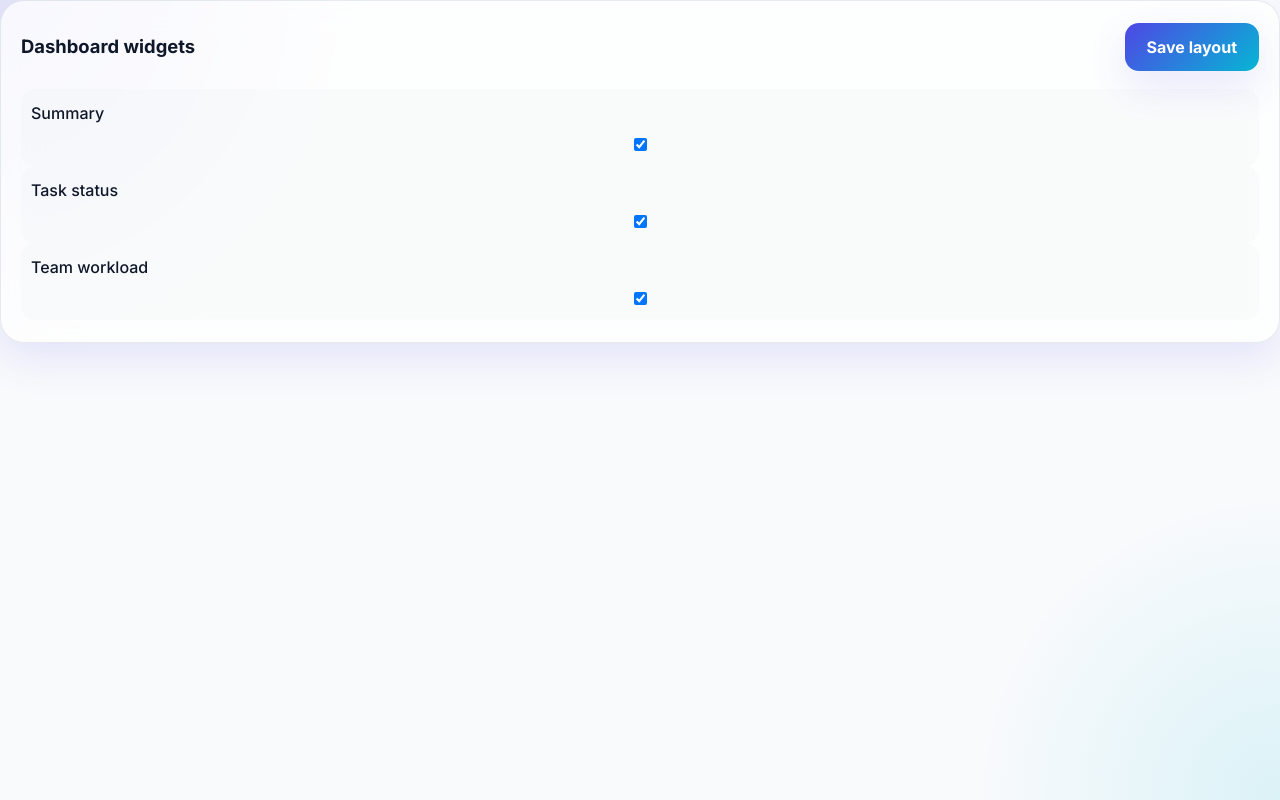
Test: WidgetLayoutEditor › toggles visibility and saves the layout
Step 1. Click the checkbox named "Show Summary" → (640,144), box [35,138,1246,151]
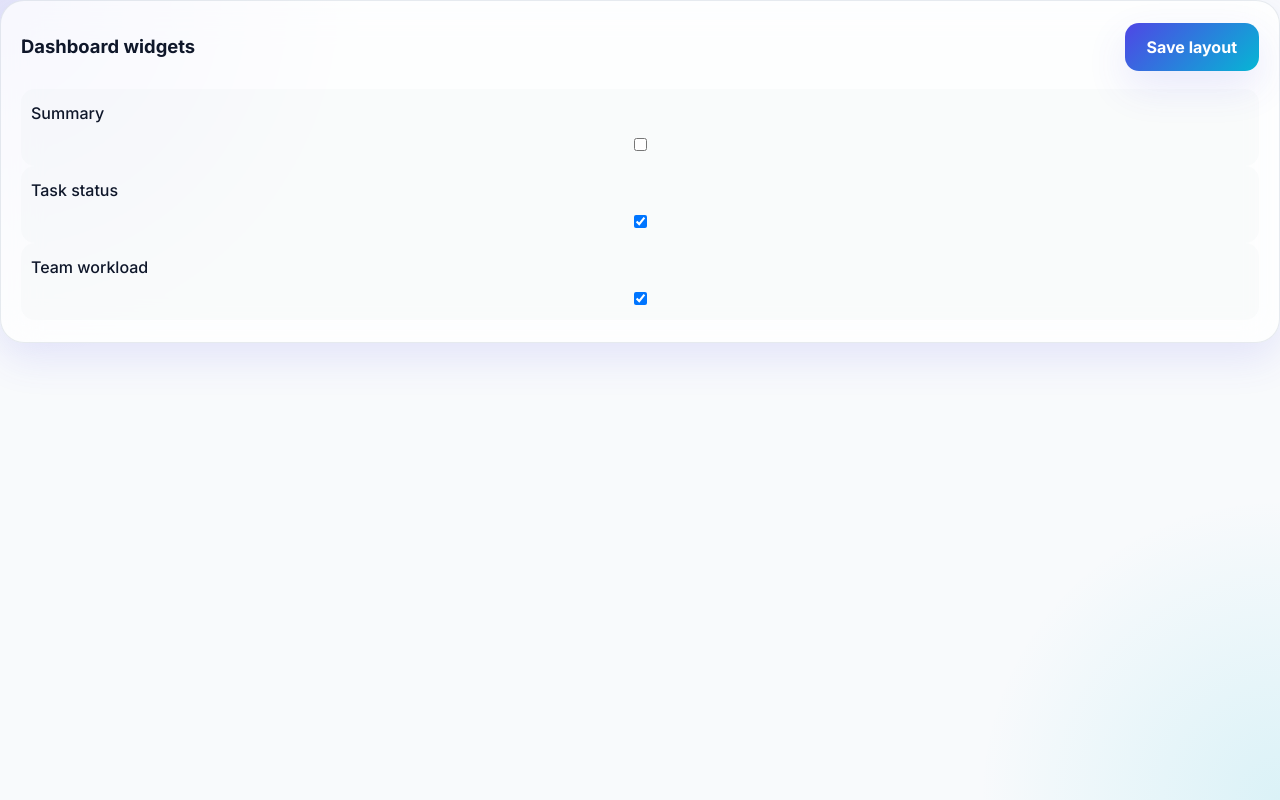
Step 2. Click the button "Save layout" → (1192,47), box [1124,23,1259,71]
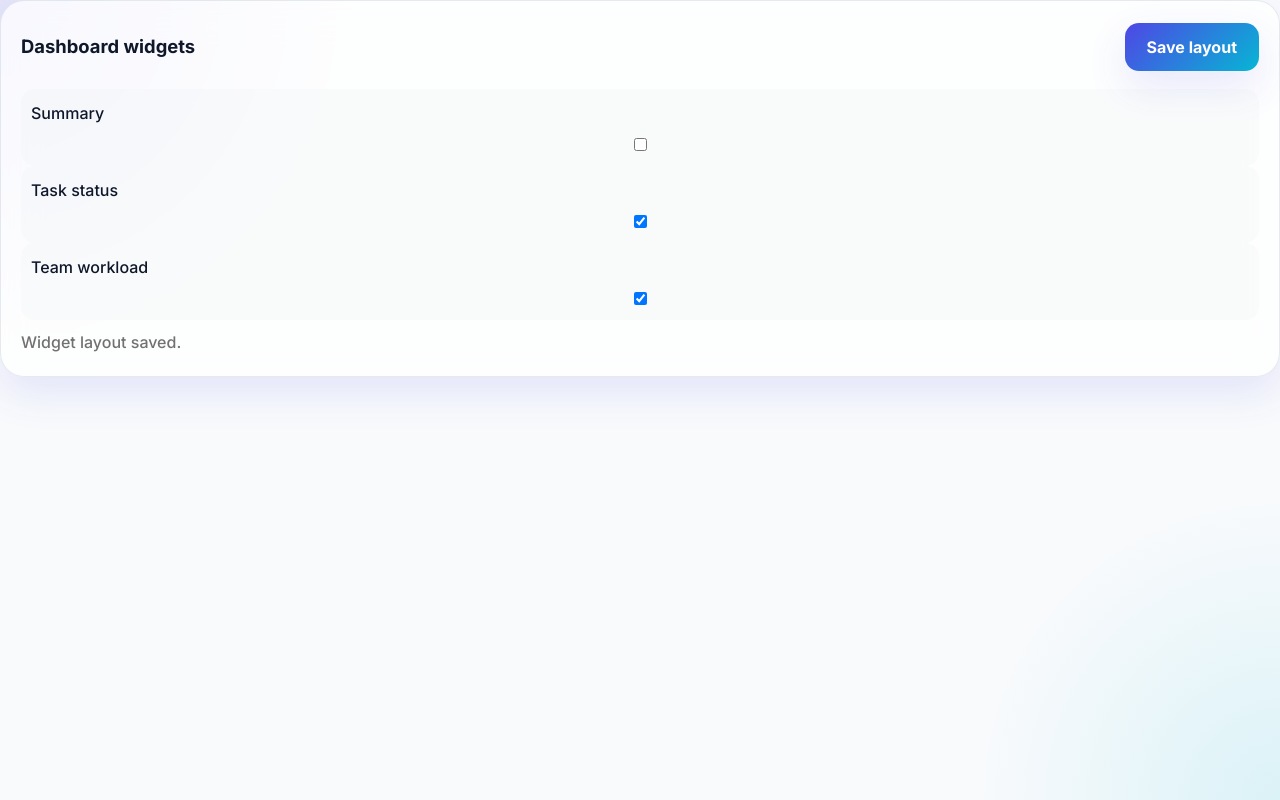
Now the message reads "Widget layout saved.", box [21,332,181,352]
